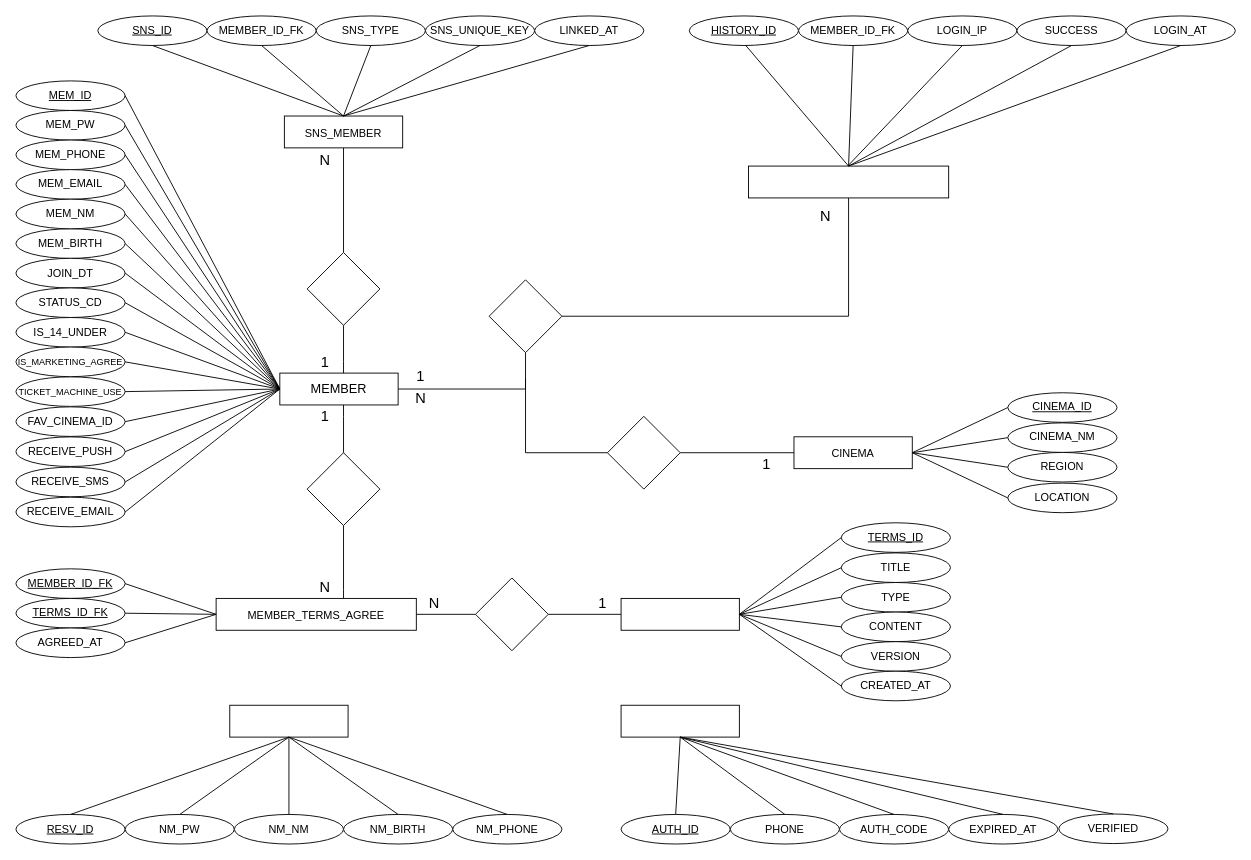
This 1251x860 diagram has some shape labels left out. Each missing label, with the centre of its shape:
MEMBER_AUTH: (679,720)
MEMBER_LOGIN_HISTORY: (848,181)
NON_MEMBER: (288,720)
SNS 연동: (343,288)
TERMS: (679,614)
동의: (343,489)
로그인: (525,316)
선호 영화관: (643,452)
포함: (511,614)
